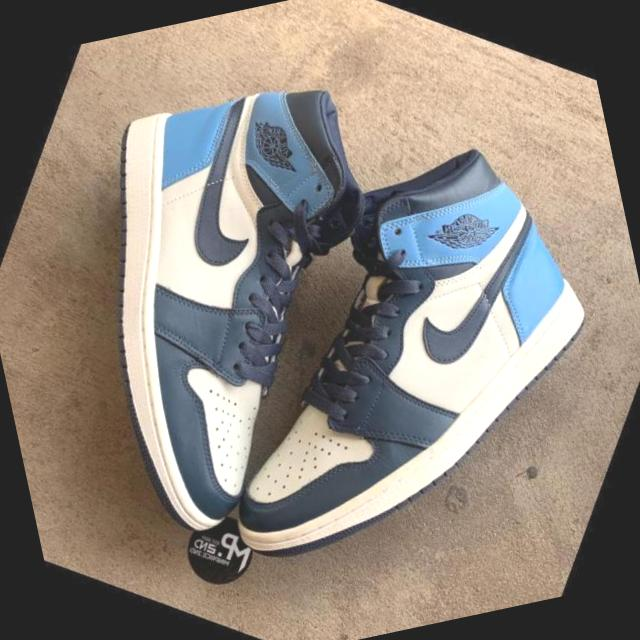nike_original_jordan: (134, 54, 640, 640), (0, 0, 465, 587)
